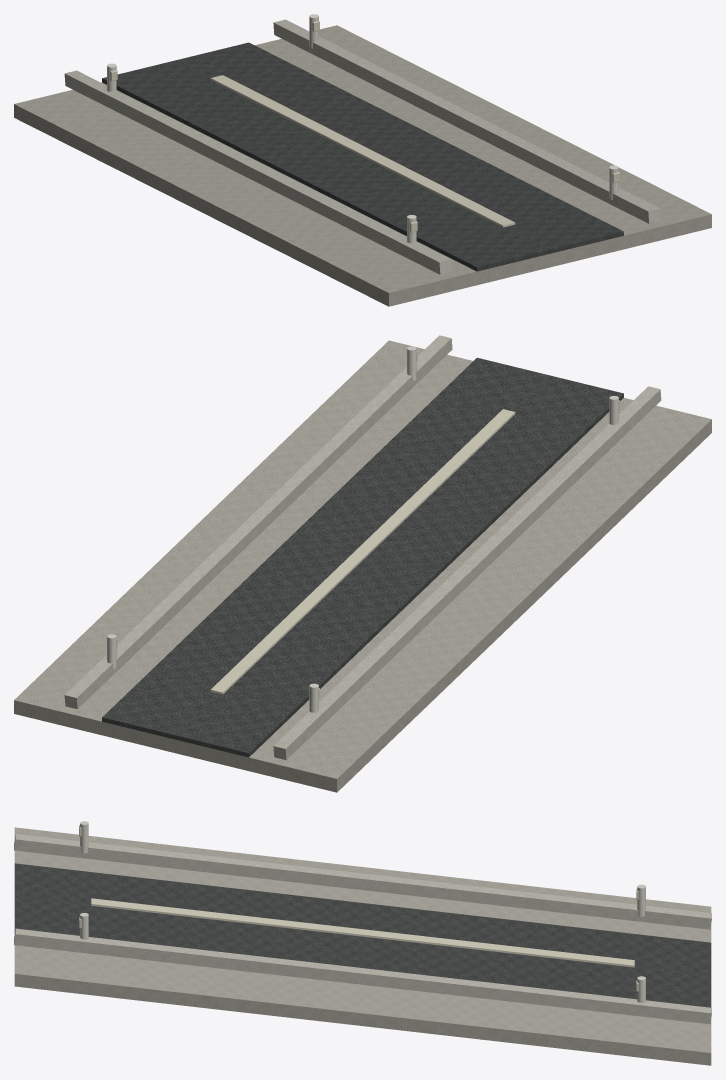
The model's file is ROAD_LOCAL_SLOPE_1x2_DOWN_050.glb.
3 views of the same model, one above another, from view 1: azimuth 30°, elevation 25°; view 2: azimuth 150°, elevation 25°; view 3: azimuth 270°, elevation 25° (orthographic). The views are drawn at different scales.
Visible parts, largest first — view 1: ROAD_LOCAL_SLOPE_1x2_DOWN_050_Visual; view 2: ROAD_LOCAL_SLOPE_1x2_DOWN_050_Visual; view 3: ROAD_LOCAL_SLOPE_1x2_DOWN_050_Visual.
Part boxes in pixels (x1=…): ROAD_LOCAL_SLOPE_1x2_DOWN_050_Visual: x1=14, y1=14, x2=711, y2=306; ROAD_LOCAL_SLOPE_1x2_DOWN_050_Visual: x1=14, y1=335, x2=711, y2=792; ROAD_LOCAL_SLOPE_1x2_DOWN_050_Visual: x1=14, y1=821, x2=711, y2=1065.
Size of what is drawn, in the model's own units: 1.98 by 0.78 by 3.99.
5 materials, 3 textured.
